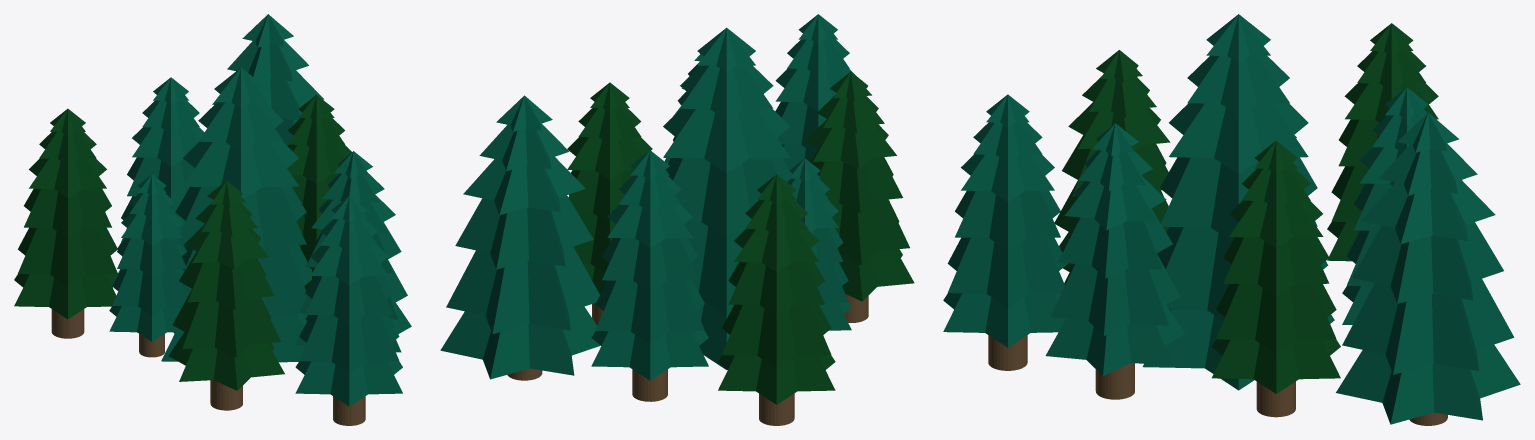
File: forest.glb
3 views of the same model, side by side, from view 1: azimuth 30°, elevation 25°; view 2: azimuth 150°, elevation 25°; view 3: azimuth 270°, elevation 25° (orthographic). The views are drawn at different scales.
Parts seen in each view (by area): view 1: Cylinder.001, Cylinder.013, Cylinder.017, Cylinder.009, Cylinder.011, Cylinder.003, Cylinder.005, Cylinder.007, Cylinder.015, Cylinder.008, Cylinder.012, Cylinder.016 (+1 smaller); view 2: Cylinder.007, Cylinder.001, Cylinder.003, Cylinder.009, Cylinder.013, Cylinder.005, Cylinder.017, Cylinder.011, Cylinder.002, Cylinder.008, Cylinder.012; view 3: Cylinder.007, Cylinder.001, Cylinder.015, Cylinder.005, Cylinder.017, Cylinder.009, Cylinder.013, Cylinder.003, Cylinder.014, Cylinder.016, Cylinder.004.
Boxes of the visible parts, x1=… form: Cylinder.001: x1=161, y1=68, x2=311, y2=362; Cylinder.013: x1=168, y1=180, x2=284, y2=390; Cylinder.017: x1=295, y1=196, x2=402, y2=406; Cylinder.009: x1=14, y1=108, x2=118, y2=319; Cylinder.011: x1=109, y1=174, x2=187, y2=341; Cylinder.003: x1=117, y1=77, x2=204, y2=274; Cylinder.005: x1=287, y1=95, x2=351, y2=290; Cylinder.007: x1=212, y1=14, x2=324, y2=145; Cylinder.015: x1=295, y1=151, x2=411, y2=352; Cylinder.008: x1=51, y1=309, x2=84, y2=338; Cylinder.012: x1=210, y1=380, x2=242, y2=410; Cylinder.016: x1=333, y1=396, x2=365, y2=425; Cylinder.007: x1=440, y1=95, x2=600, y2=379; Cylinder.001: x1=663, y1=27, x2=791, y2=369; Cylinder.003: x1=591, y1=150, x2=708, y2=380; Cylinder.009: x1=718, y1=174, x2=835, y2=404; Cylinder.013: x1=804, y1=71, x2=914, y2=301; Cylinder.005: x1=567, y1=82, x2=652, y2=303; Cylinder.017: x1=775, y1=14, x2=855, y2=174; Cylinder.011: x1=787, y1=158, x2=851, y2=330; Cylinder.002: x1=632, y1=369, x2=667, y2=401; Cylinder.008: x1=759, y1=393, x2=794, y2=425; Cylinder.012: x1=844, y1=294, x2=868, y2=322; Cylinder.007: x1=1336, y1=112, x2=1520, y2=424; Cylinder.001: x1=1142, y1=14, x2=1334, y2=390; Cylinder.015: x1=1045, y1=123, x2=1185, y2=375; Cylinder.005: x1=1211, y1=140, x2=1340, y2=393; Cylinder.017: x1=943, y1=94, x2=1067, y2=347; Cylinder.009: x1=1327, y1=23, x2=1438, y2=261; Cylinder.013: x1=1054, y1=50, x2=1170, y2=271; Cylinder.003: x1=1342, y1=87, x2=1428, y2=324; Cylinder.014: x1=1095, y1=363, x2=1134, y2=399; Cylinder.016: x1=988, y1=335, x2=1027, y2=370; Cylinder.004: x1=1256, y1=381, x2=1295, y2=417.
Bounding box in the file's own units: 0.584 × 0.4795 × 0.7352.
